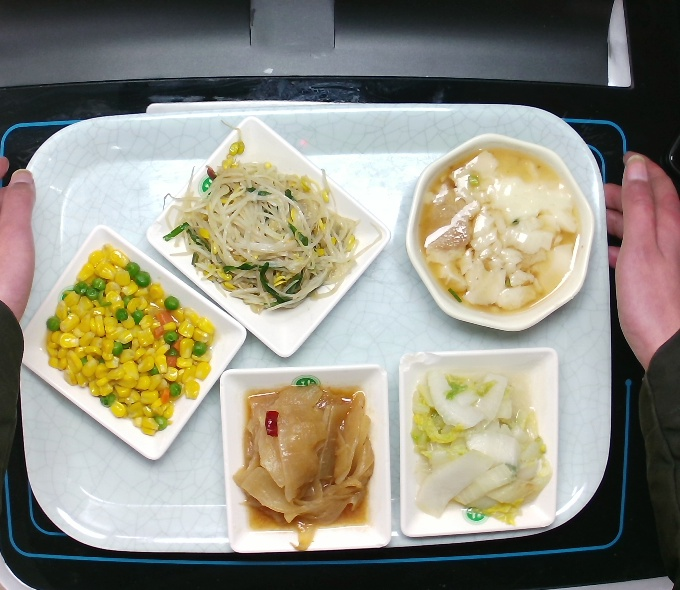wcq-DaBaiCai: (408, 365, 557, 530)
wcq-DongGua: (230, 380, 379, 556)
wcq-DouYa: (157, 119, 384, 317)
wcq-ShuiZhengDan: (415, 140, 586, 320)
wcq-TianMiTianDou: (41, 241, 222, 438)
